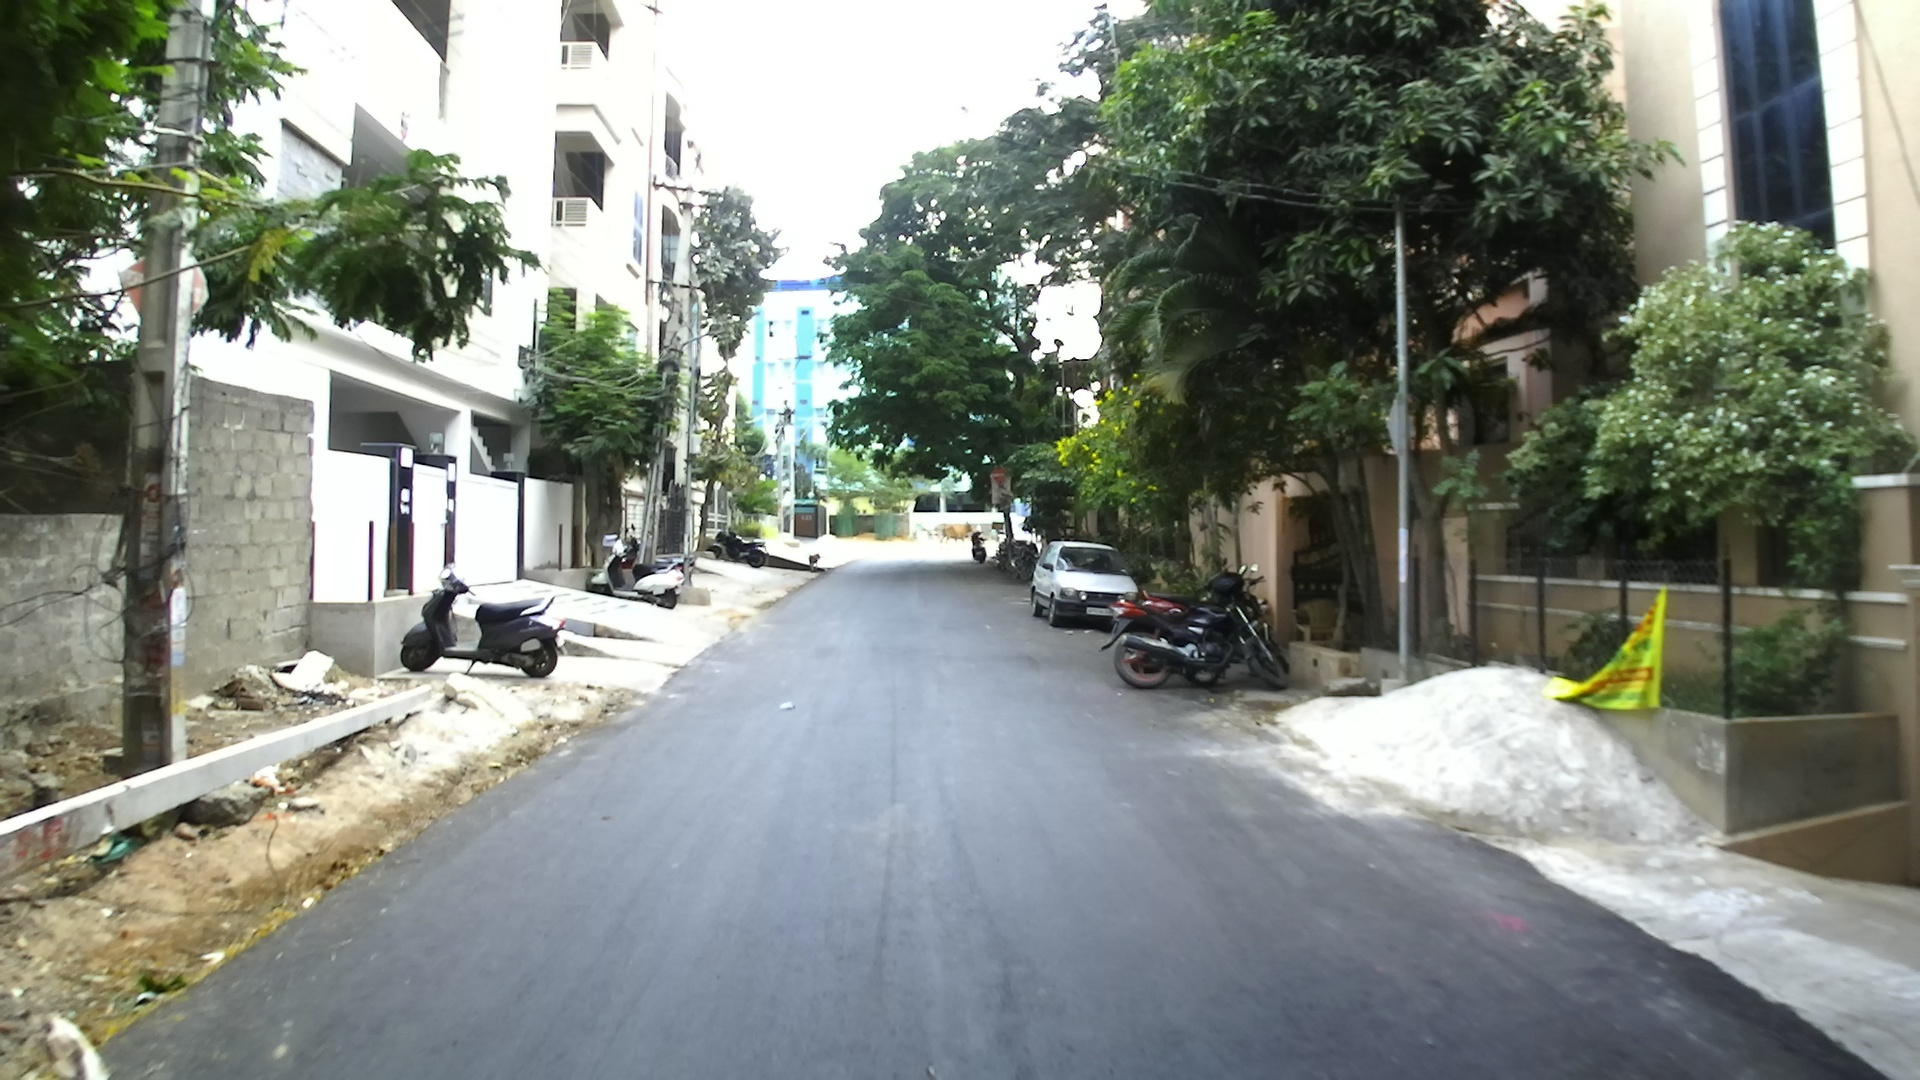vehicle: (1109, 564, 1288, 694), (1029, 541, 1139, 629)
